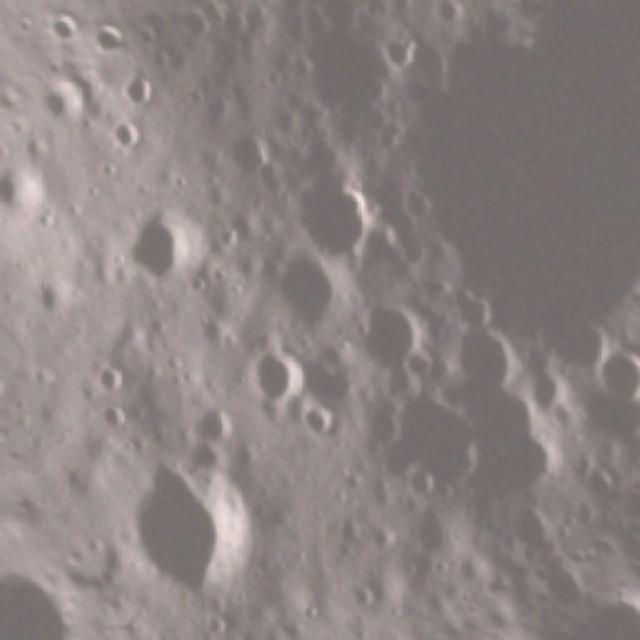crater: (349, 10, 640, 393), (91, 426, 294, 640), (276, 156, 399, 284), (251, 224, 369, 350), (331, 272, 446, 392), (421, 304, 536, 422), (106, 187, 217, 299), (218, 320, 324, 431), (574, 315, 640, 423), (496, 486, 567, 568), (0, 147, 58, 230), (286, 386, 354, 454), (180, 384, 243, 456), (96, 106, 158, 166), (109, 56, 168, 116), (162, 634, 263, 640)
